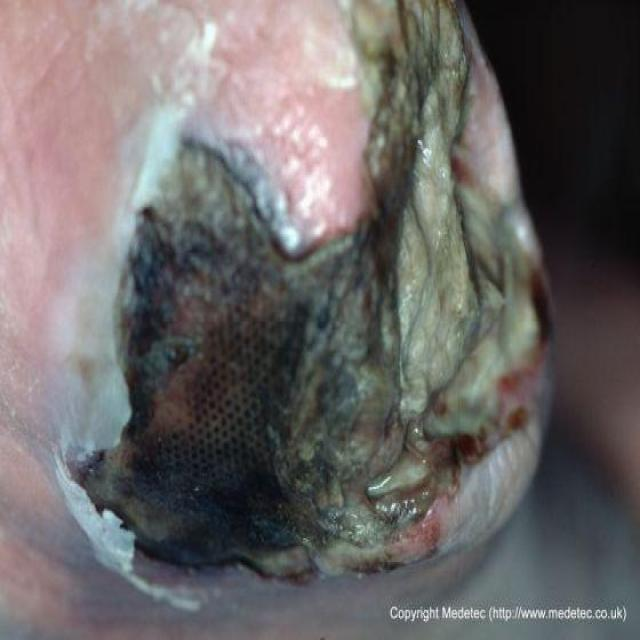Unstageable: (81, 3, 548, 575)
